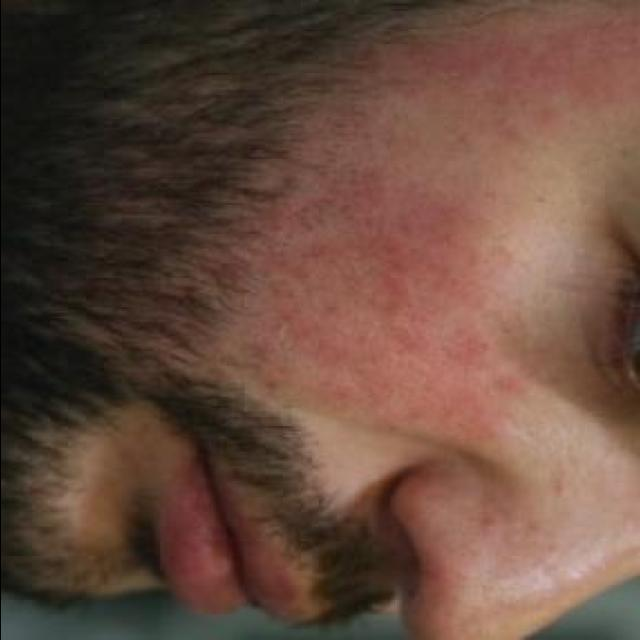Rosacea: (281, 200, 507, 408)
